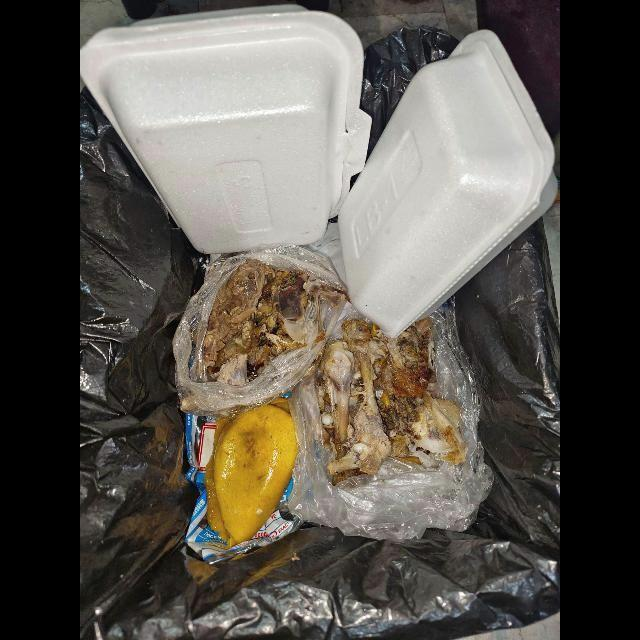left_over_food: (318, 318, 468, 485), (202, 260, 346, 386)
plastic_bag: (286, 299, 494, 542), (172, 246, 349, 419)
